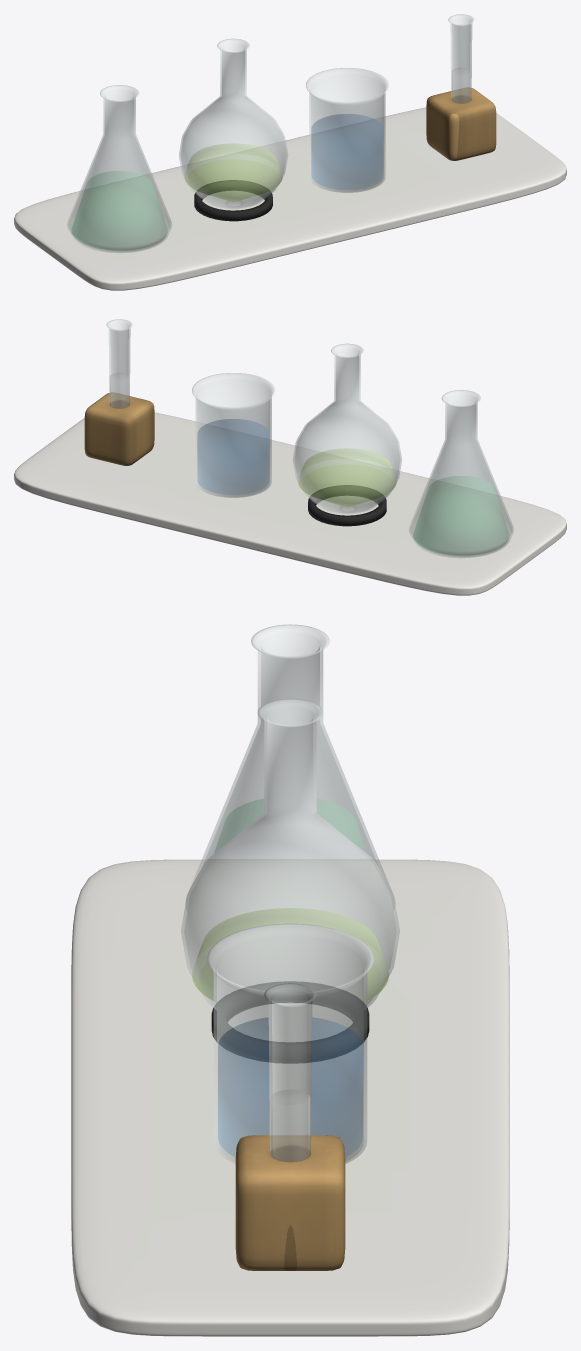
The model's file is mixed-set-green.glb.
The picture shows the model from 3 angles, top to bottom: view 1: azimuth 30°, elevation 25°; view 2: azimuth 150°, elevation 25°; view 3: azimuth 270°, elevation 25°; orthographic projection. The views are drawn at different scales.
Visible parts, largest first — view 1: tray_white, lab_glass, liquid_3ab06a, liquid_3a8ad9, wood_z, liquid_a0d93a, cork, liquid_d9d9d9; view 2: tray_white, lab_glass, liquid_3ab06a, liquid_3a8ad9, wood_z, liquid_a0d93a, cork, liquid_d9d9d9; view 3: tray_white, lab_glass, wood_z, liquid_3a8ad9, cork, liquid_a0d93a, liquid_d9d9d9, liquid_3ab06a.
Part boxes in pixels (x1,y1,x2,y2): tray_white: (14,107,566,290); lab_glass: (67,14,473,252); liquid_3ab06a: (71,171,167,250); liquid_3a8ad9: (311,114,383,189); wood_z: (426,87,496,160); liquid_a0d93a: (184,143,282,202); cork: (194,180,272,221); liquid_d9d9d9: (452,70,470,102); tray_white: (14,412,566,595); lab_glass: (106,319,513,557); liquid_3ab06a: (413,476,509,555); liquid_3a8ad9: (197,419,269,494); wood_z: (84,392,154,465); liquid_a0d93a: (298,448,396,507); cork: (308,485,386,526); liquid_d9d9d9: (110,375,128,407); tray_white: (71,859,509,1336); lab_glass: (181,624,399,1163); wood_z: (235,1135,345,1270); liquid_3a8ad9: (218,1017,362,1156); cork: (211,981,369,1063); liquid_a0d93a: (192,908,388,1000); liquid_d9d9d9: (271,1095,309,1160); liquid_3ab06a: (214,799,366,852).
Bounding box in the file's own units: 0.5 × 0.172 × 0.2.
Materials: 8 (1 with a texture image).
